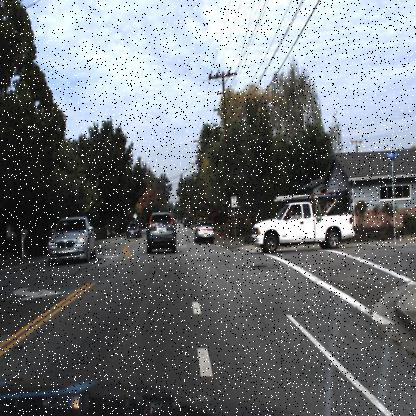car: (252, 189, 353, 258), (44, 210, 96, 269), (143, 208, 178, 254), (192, 216, 214, 247), (123, 218, 143, 243), (125, 217, 143, 240)
